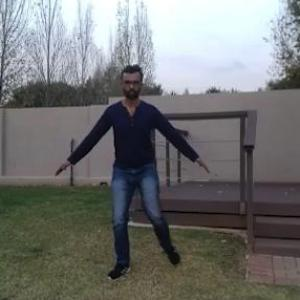land: (74, 69, 195, 279)
